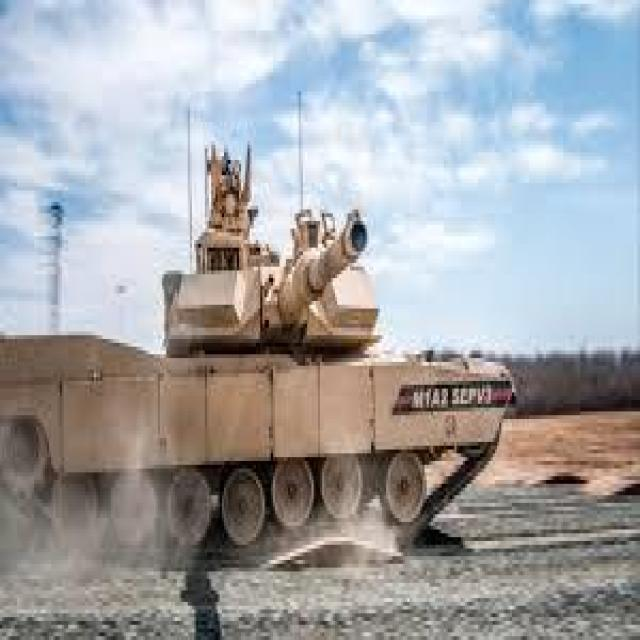Tanks: (163, 143, 507, 531)
